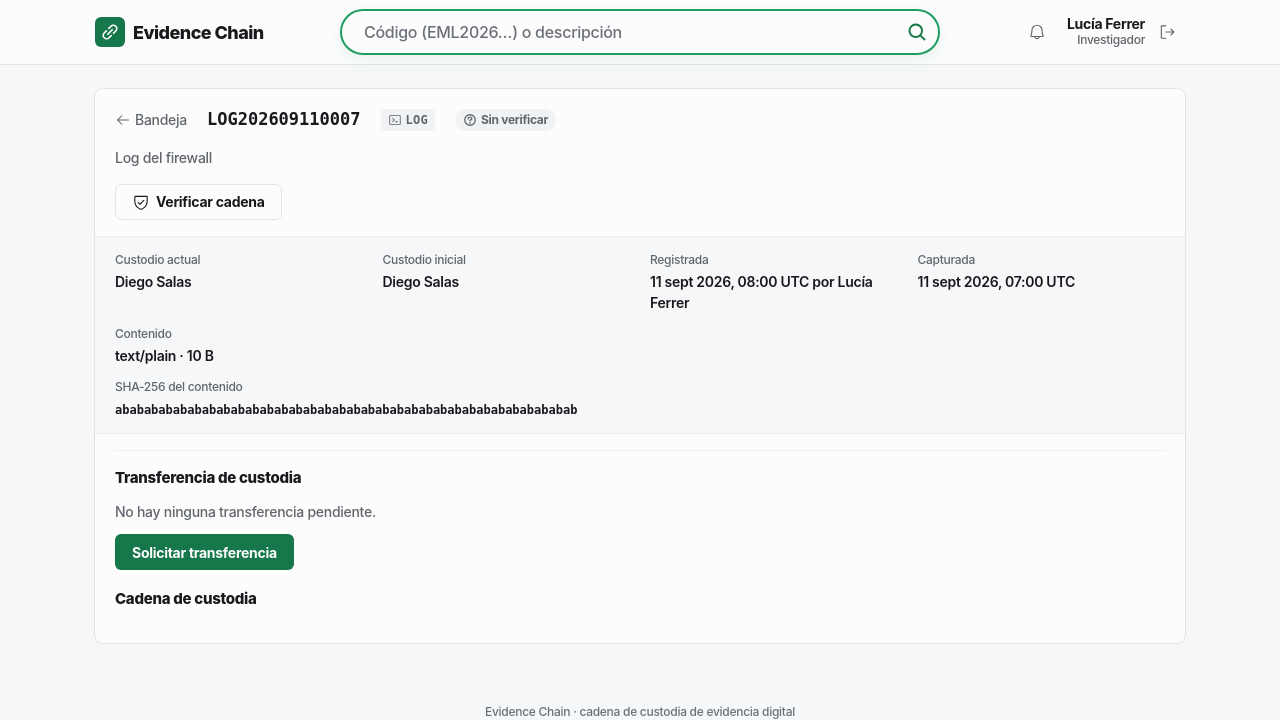
Test: TransferPanel › says when the server answers with a request someone already decided
Expected: the heading "LOG202609110007" is shown, [207,107,360,132]
Click the button "Solicitar transferencia" at (204,552), box [115,534,294,570]
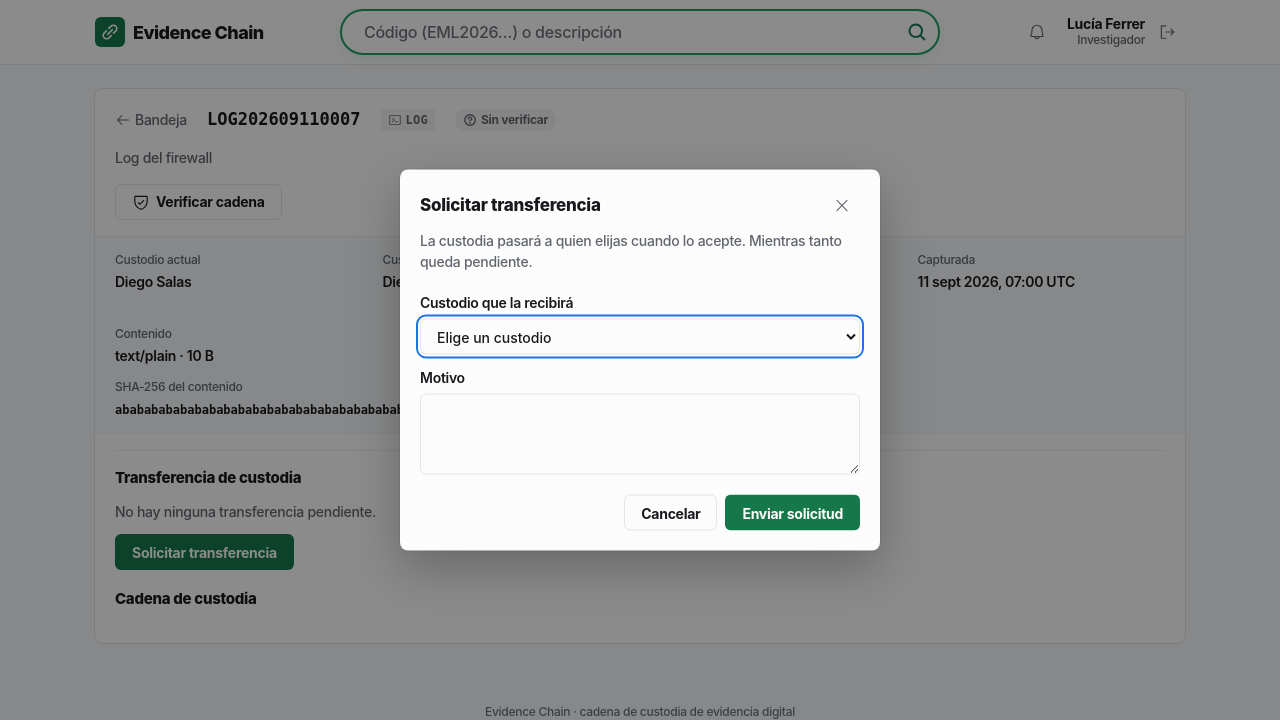
Select "Nuria Paredes" in the dropdown labelled "Custodio que la recibirá" at (640,336), box [420,318,860,354]
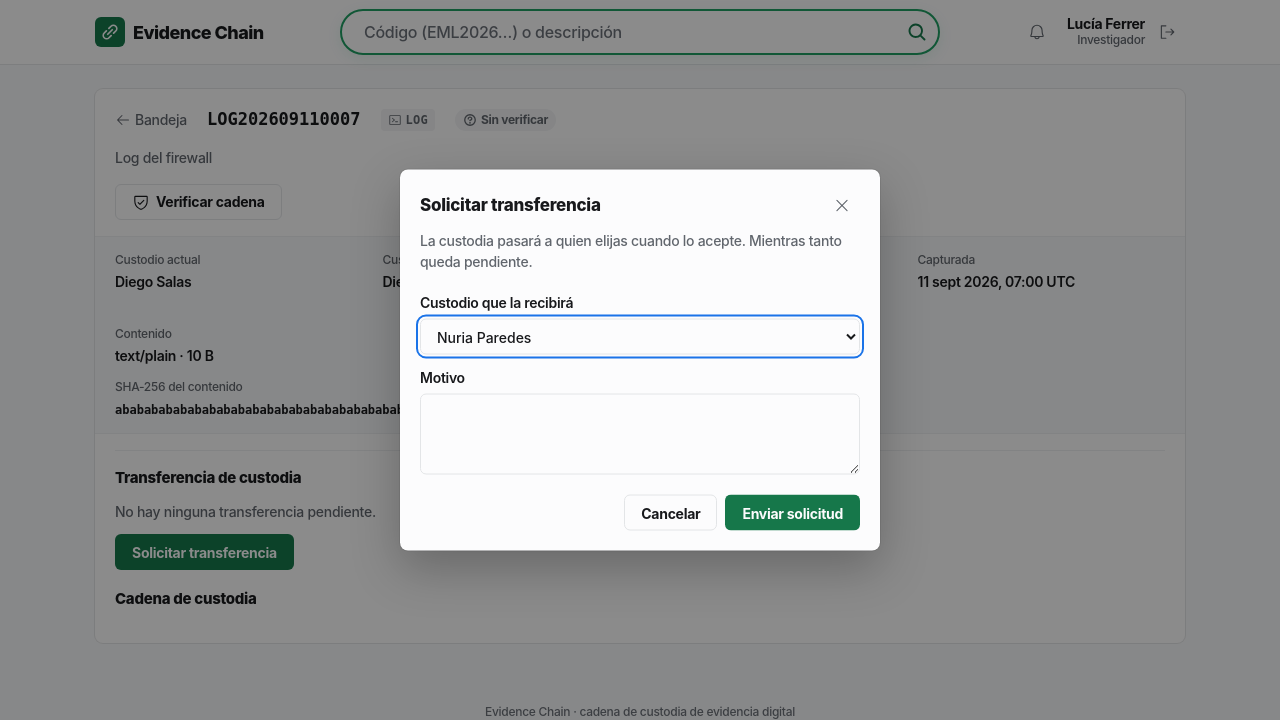
Type "Peritaje externo" into the text box labelled "Motivo" at (640,434), box [420,394,860,474]
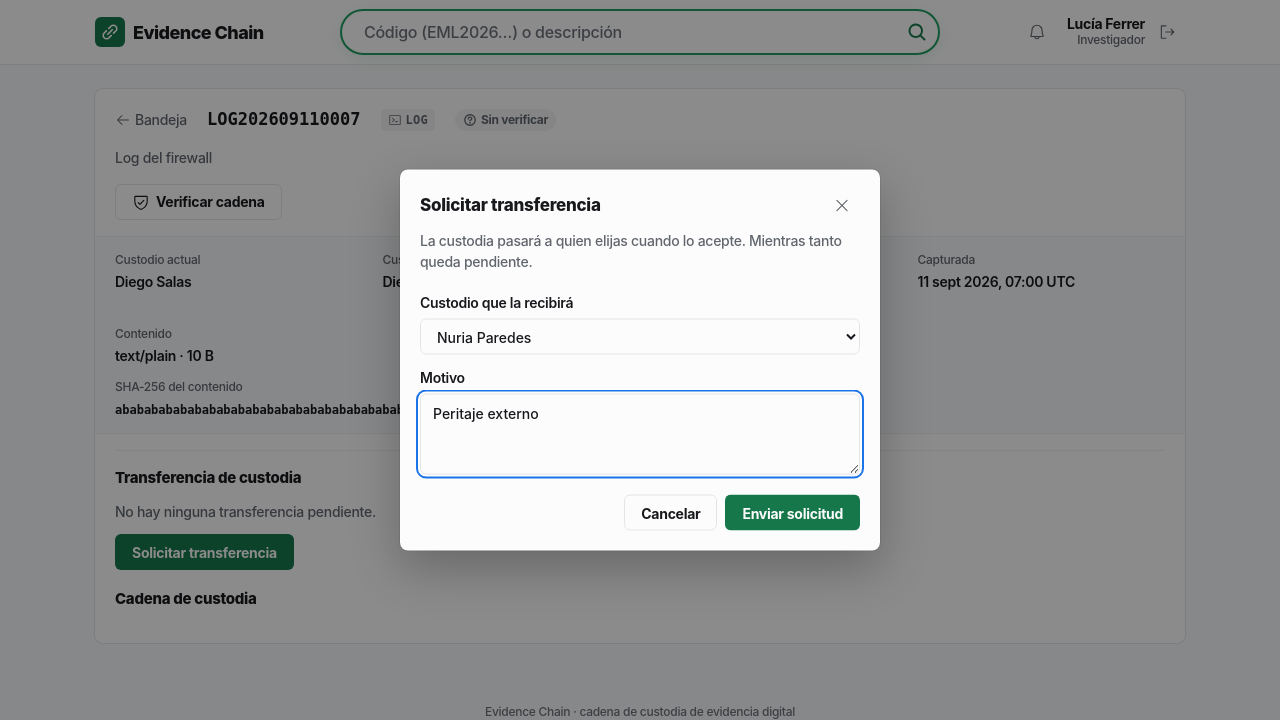
Click the button "Enviar solicitud" at (793,512), box [725,494,860,530]
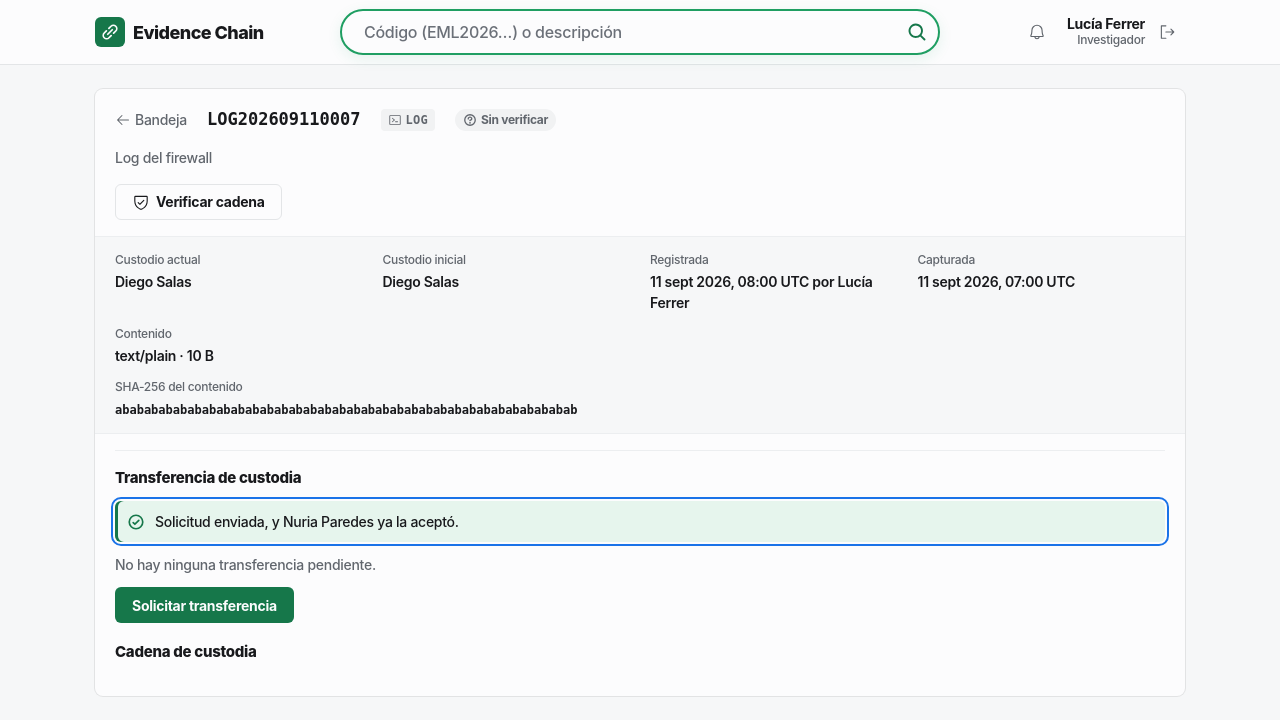
Expected: the text "Solicitud enviada, y Nuria Paredes ya la aceptó." is shown, [155,513,459,530]
